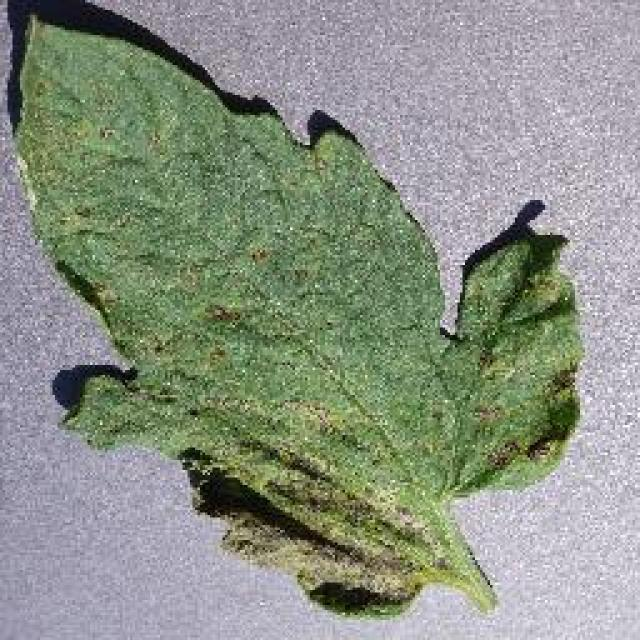Tom_Septoria_leaf_spot: (175, 368, 434, 604)
